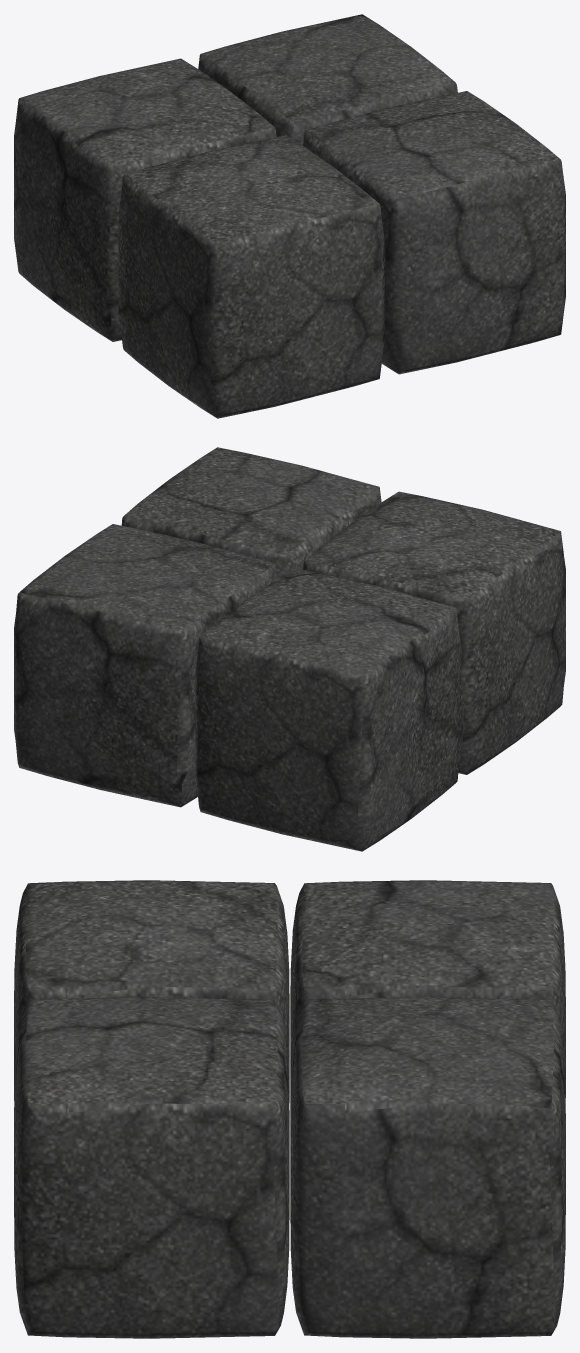
File: Floor_Tile.glb
3 renders of one model, top to bottom at view 1: azimuth 30°, elevation 25°; view 2: azimuth 150°, elevation 25°; view 3: azimuth 270°, elevation 25°, orthographic. The views are drawn at different scales.
Parts seen in each view (by area): view 1: Floor_Tile; view 2: Floor_Tile; view 3: Floor_Tile.
Part boxes in pixels (<box>): Floor_Tile: <box>14,14,565,418</box>; Floor_Tile: <box>14,447,565,851</box>; Floor_Tile: <box>14,880,565,1338</box>.
Size of the model in its own units: 9.99 by 4.99 by 9.99.
1 material, 1 textured.
